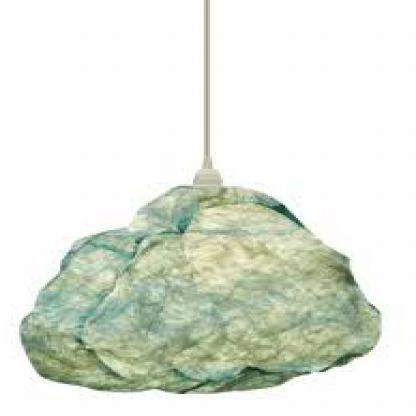Igneous_Diorite: (15, 172, 399, 411)
